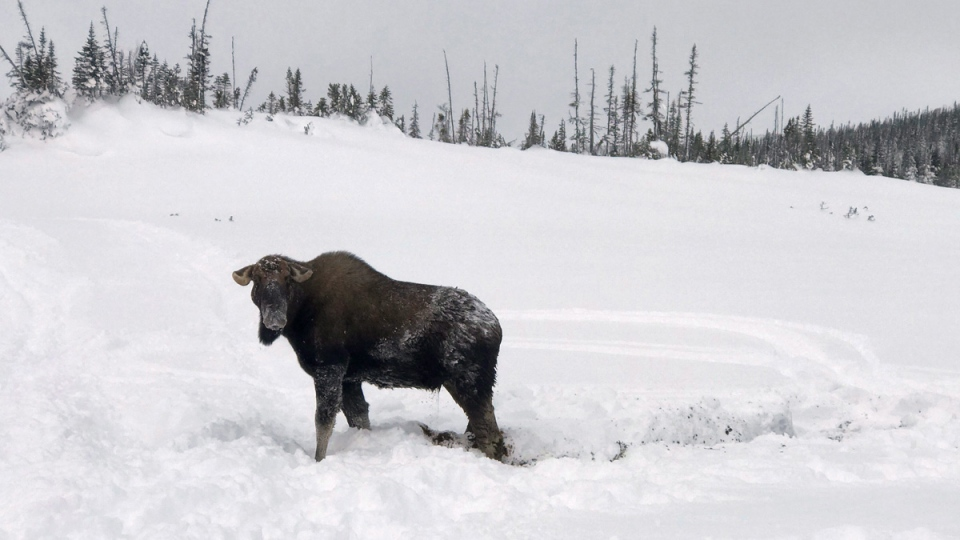moose: (233, 247, 513, 460)
